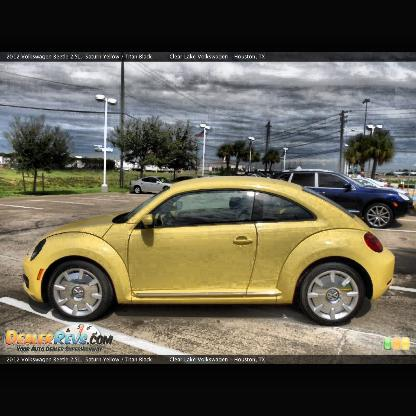Volkswagen Beetle Hatchback 2012: (23, 176, 400, 328)
